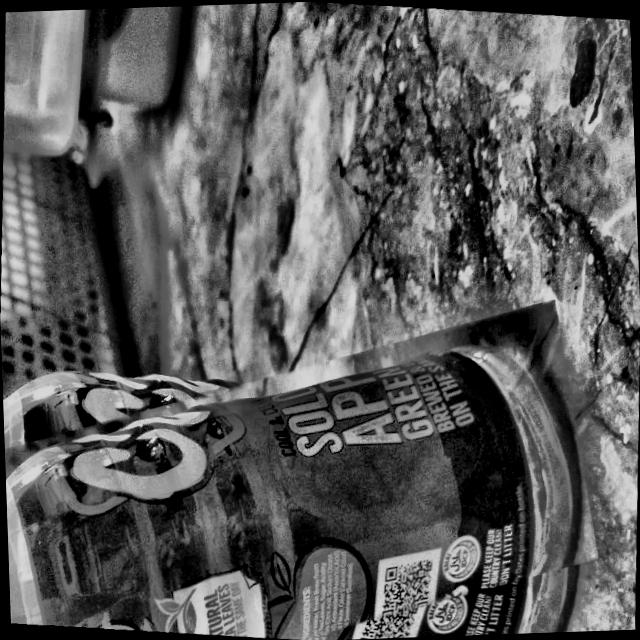Plastic-Bottle: (0, 290, 603, 640)
